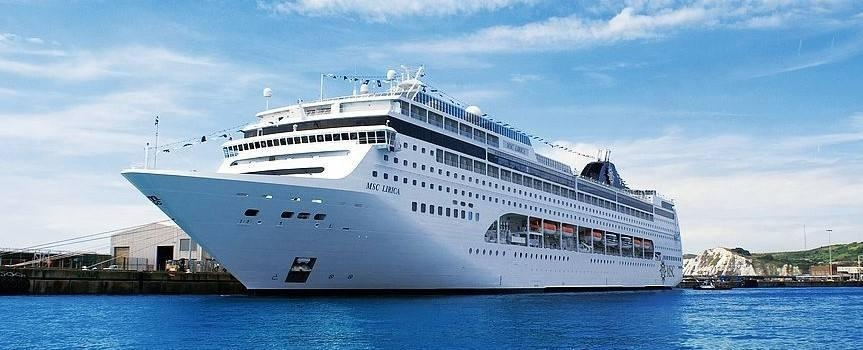youlun: (114, 62, 687, 293)
